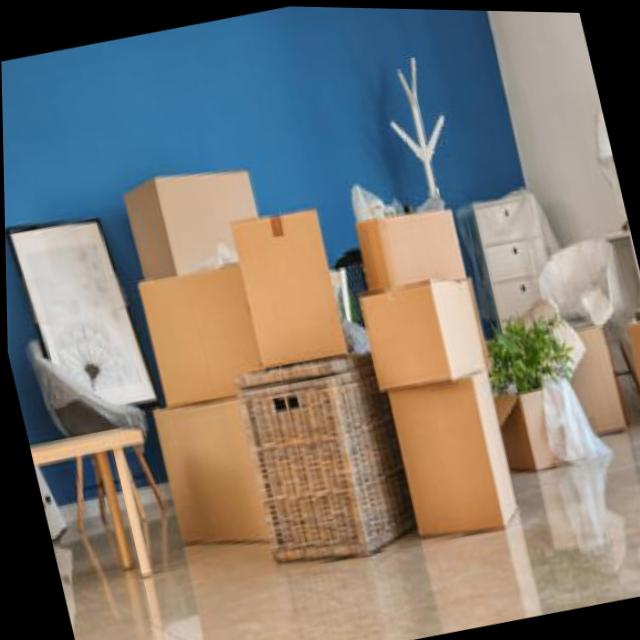box: (374, 365, 540, 583), (208, 170, 362, 385), (140, 373, 291, 589), (126, 249, 279, 424), (112, 143, 287, 289), (347, 262, 500, 415), (339, 178, 485, 316)
